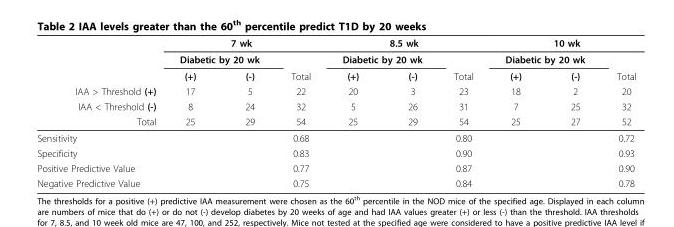table: (36, 36, 635, 188)
table column: (36, 36, 167, 188), (325, 36, 382, 188), (488, 36, 545, 188), (219, 36, 274, 188), (382, 36, 437, 188), (545, 36, 600, 188), (167, 36, 219, 188), (274, 36, 325, 188), (437, 36, 488, 188), (600, 36, 635, 188)
table column header: (36, 36, 635, 129)
table row: (36, 50, 635, 67), (36, 67, 635, 83), (36, 113, 635, 129), (36, 129, 635, 145), (36, 83, 635, 98), (36, 98, 635, 113), (36, 145, 635, 160), (36, 160, 635, 175), (36, 36, 635, 50), (36, 175, 635, 188)
table spanning cell: (36, 36, 167, 129), (274, 50, 325, 129), (437, 50, 488, 129), (325, 67, 382, 129), (488, 67, 545, 129), (219, 67, 274, 129), (382, 67, 437, 129), (545, 67, 600, 129), (167, 67, 219, 129), (600, 50, 635, 129), (325, 36, 488, 50), (167, 36, 325, 50), (488, 36, 635, 50), (325, 50, 437, 67), (488, 50, 600, 67), (167, 50, 274, 67)
